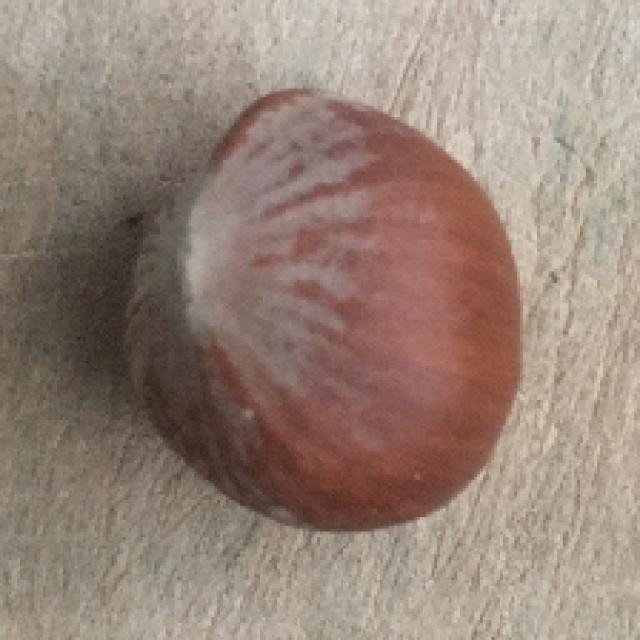qualityHazelnut: (94, 79, 524, 538)
